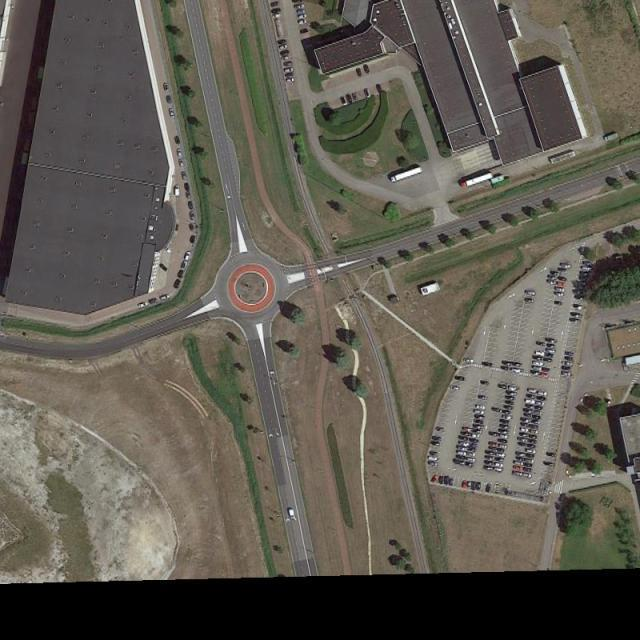vehicle: (388, 162, 425, 183), (461, 170, 494, 187), (344, 94, 354, 106), (279, 49, 290, 58), (364, 87, 371, 100), (288, 509, 295, 522), (158, 264, 168, 273), (282, 66, 293, 74), (173, 279, 181, 290), (173, 135, 181, 146), (188, 235, 196, 246), (184, 250, 192, 261), (180, 259, 188, 270), (362, 64, 370, 74), (375, 84, 383, 94), (569, 318, 582, 324), (524, 448, 537, 454), (174, 185, 180, 198), (467, 436, 478, 443), (559, 262, 571, 268), (525, 443, 537, 449), (562, 360, 574, 366), (526, 388, 538, 394), (454, 375, 466, 381), (277, 38, 287, 45), (522, 410, 532, 417), (489, 431, 499, 438), (534, 350, 544, 357), (522, 466, 532, 473), (187, 201, 194, 211), (538, 390, 548, 397), (581, 266, 592, 272), (298, 28, 309, 34), (572, 304, 583, 310), (482, 465, 493, 471), (530, 365, 541, 371), (427, 456, 438, 462), (427, 450, 438, 456), (449, 386, 460, 392), (506, 391, 517, 397), (499, 415, 512, 420), (298, 18, 307, 25), (177, 269, 184, 278), (570, 313, 582, 318), (582, 261, 594, 266), (294, 10, 306, 15), (356, 68, 362, 78), (270, 9, 282, 14), (553, 300, 563, 306), (525, 399, 535, 405), (536, 396, 546, 402), (498, 424, 510, 429), (498, 429, 510, 434), (498, 444, 508, 450), (528, 434, 538, 440), (546, 338, 558, 343), (138, 302, 148, 308), (160, 294, 170, 300), (177, 148, 183, 158), (181, 171, 187, 181), (184, 182, 190, 192), (458, 436, 468, 442), (294, 5, 305, 10), (496, 439, 507, 444), (484, 450, 495, 455), (546, 344, 557, 349), (499, 366, 510, 371), (511, 471, 522, 476), (166, 94, 171, 105), (169, 108, 174, 119), (190, 211, 195, 222), (486, 483, 491, 494), (479, 381, 490, 386), (508, 386, 519, 391), (297, 14, 306, 20), (282, 55, 291, 61), (341, 96, 347, 105), (541, 366, 550, 372), (474, 424, 483, 430), (462, 426, 471, 432), (524, 290, 537, 294), (535, 401, 545, 406), (530, 421, 540, 426), (529, 425, 539, 430), (494, 458, 504, 463), (483, 460, 493, 465), (493, 468, 503, 473), (544, 358, 554, 363), (149, 298, 159, 303), (189, 222, 194, 232), (432, 436, 442, 441), (504, 401, 514, 406), (468, 442, 478, 447), (465, 453, 475, 458), (464, 463, 474, 468), (490, 407, 500, 412), (474, 410, 484, 415), (458, 441, 468, 446), (456, 446, 466, 451), (456, 451, 466, 456), (451, 459, 461, 464), (523, 298, 535, 302), (426, 462, 438, 466), (465, 458, 477, 462), (279, 45, 288, 50), (270, 2, 279, 7), (529, 429, 538, 434), (485, 455, 494, 460), (528, 440, 537, 445), (530, 370, 539, 375), (164, 82, 169, 91), (478, 396, 487, 401), (466, 481, 471, 490), (470, 481, 475, 490), (449, 477, 454, 486), (444, 476, 449, 485), (576, 290, 587, 294), (579, 272, 590, 276), (554, 288, 565, 292), (553, 293, 564, 297), (271, 14, 282, 18), (530, 416, 541, 420), (533, 361, 544, 365), (535, 342, 546, 346), (546, 350, 557, 354), (563, 356, 574, 360), (560, 366, 571, 370), (559, 370, 570, 374), (512, 368, 523, 372), (463, 358, 474, 362), (482, 362, 493, 366), (512, 362, 523, 366), (546, 453, 557, 457), (470, 434, 481, 438), (502, 406, 513, 410), (499, 419, 510, 423), (471, 430, 482, 434), (474, 420, 485, 424), (546, 280, 556, 284), (578, 282, 588, 286), (284, 78, 294, 82), (534, 406, 544, 410), (522, 407, 532, 411), (517, 437, 527, 441), (526, 394, 536, 398), (496, 454, 506, 458), (488, 442, 498, 446), (496, 450, 506, 454), (524, 454, 534, 458), (178, 160, 183, 168), (544, 462, 554, 466), (504, 396, 514, 400), (477, 405, 485, 410), (557, 282, 566, 286), (546, 275, 558, 278), (285, 73, 294, 77), (519, 422, 528, 426), (519, 428, 528, 432), (499, 434, 508, 438), (487, 447, 496, 451), (494, 463, 503, 467), (563, 352, 575, 355), (515, 452, 524, 456), (514, 456, 523, 460), (513, 461, 522, 465), (512, 466, 521, 470), (522, 474, 531, 478), (435, 428, 444, 432), (498, 385, 507, 389), (501, 410, 510, 414), (455, 455, 464, 459), (438, 476, 442, 485), (474, 415, 485, 418), (532, 410, 540, 414), (520, 418, 528, 422), (545, 354, 553, 358), (517, 442, 525, 446), (186, 191, 190, 199), (476, 482, 480, 490), (576, 295, 586, 298), (579, 276, 589, 279), (557, 270, 567, 273), (532, 356, 542, 359), (524, 460, 534, 463), (523, 463, 533, 466), (466, 448, 476, 451), (462, 481, 466, 488), (550, 271, 559, 274), (284, 63, 293, 66), (525, 405, 534, 408), (502, 361, 511, 364), (431, 442, 440, 445), (460, 432, 469, 435), (290, 1, 303, 3), (558, 277, 566, 280), (519, 434, 527, 437), (578, 286, 587, 288)
